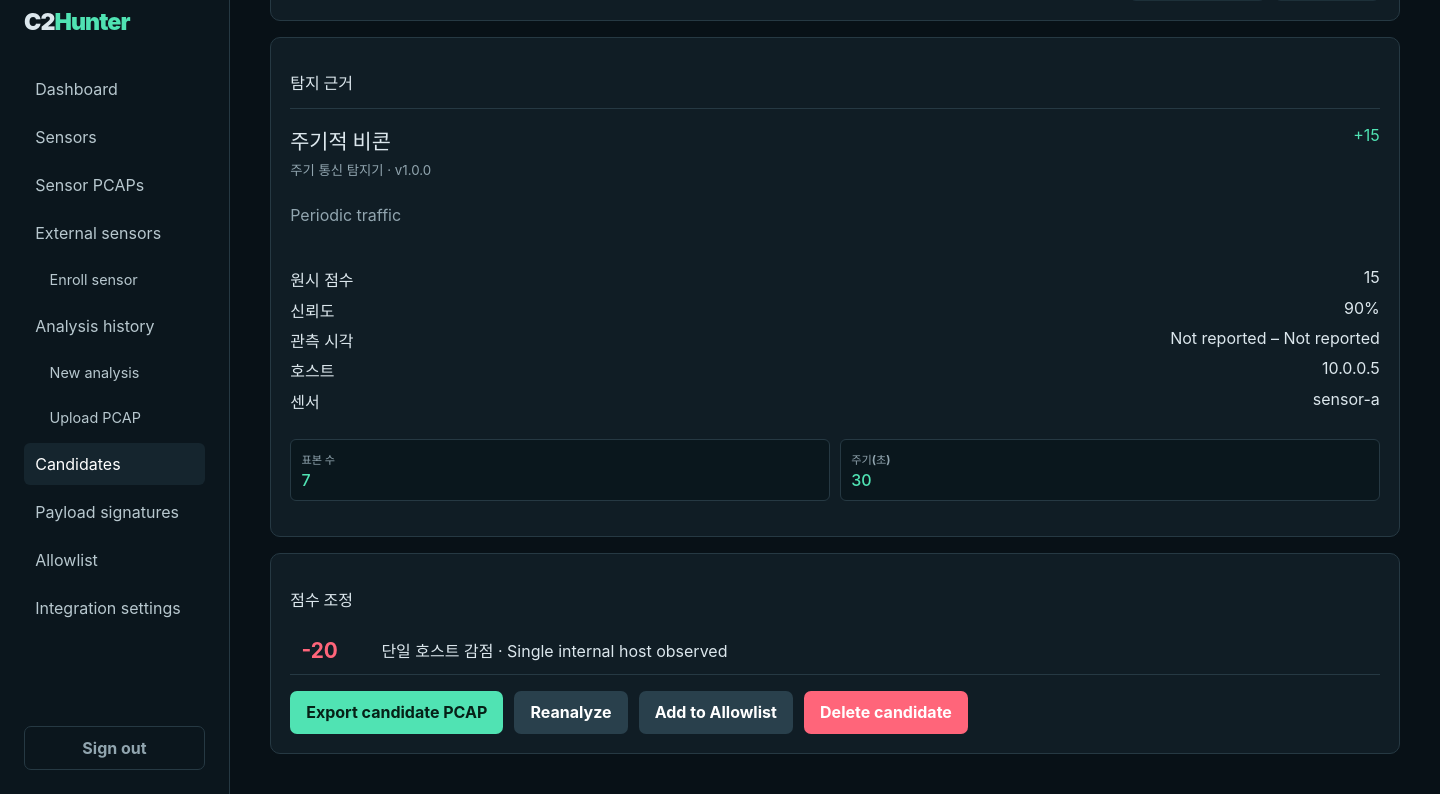
Test: C2Hunter UI › downloads a completed candidate PCAP export
(page scrolled)
Click the button "Export candidate PCAP": (397, 712) [290,691,503,734]
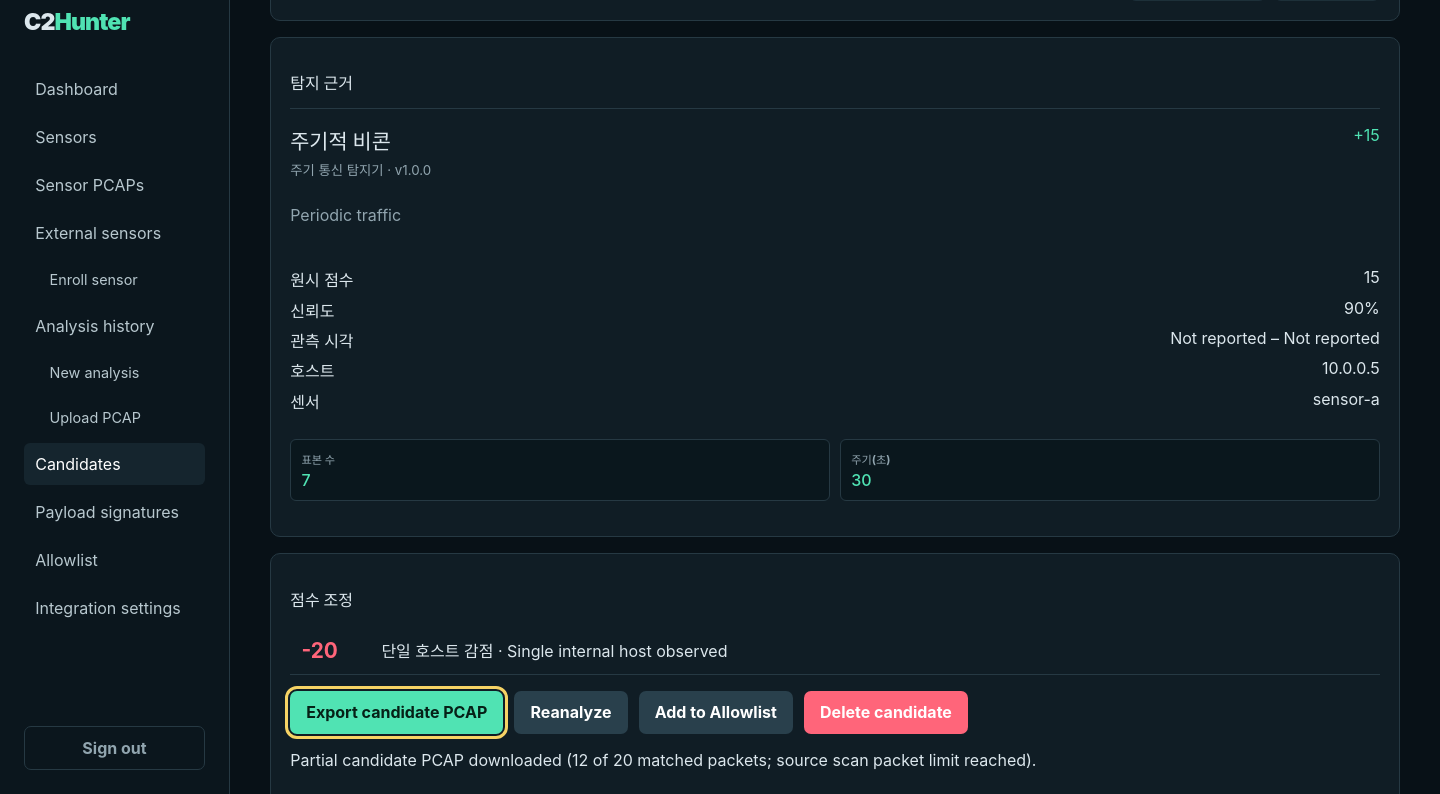
Expected: the message shows "Partial candidate PCAP downloaded (12 of 20 matched packets; source scan packet limit reached)", [290,750,1036,770]
